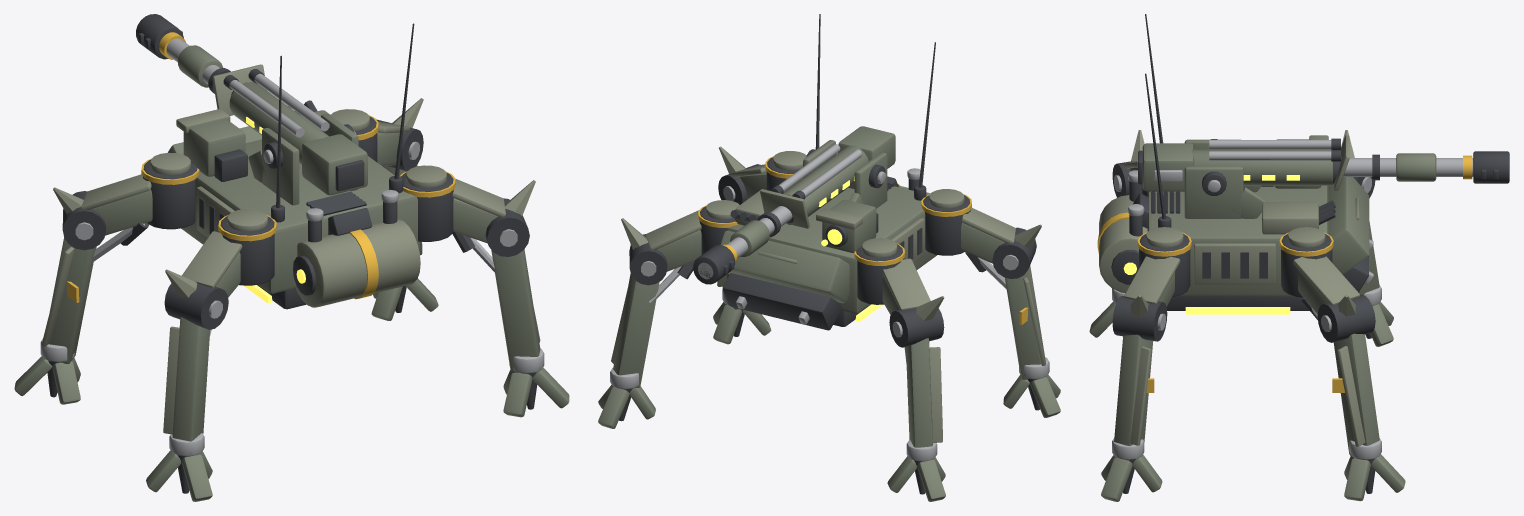
The model's file is howitzer_walker.glb.
3 views of the same model, side by side, from view 1: azimuth 30°, elevation 25°; view 2: azimuth 150°, elevation 25°; view 3: azimuth 270°, elevation 25° (orthographic). The views are drawn at different scales.
Visible parts, largest first — view 1: Legs, Hull, GunBarrel; view 2: Legs, Hull, GunBarrel; view 3: Legs, Hull, GunBarrel.
Part boxes in pixels (bbox=[...]): Legs: bbox=[14, 98, 569, 501]; Hull: bbox=[168, 23, 420, 309]; GunBarrel: bbox=[136, 14, 367, 195]; Legs: bbox=[598, 146, 1060, 501]; Hull: bbox=[720, 14, 936, 330]; GunBarrel: bbox=[693, 126, 895, 284]; Legs: bbox=[1089, 130, 1405, 501]; Hull: bbox=[1097, 14, 1373, 314]; GunBarrel: bbox=[1138, 135, 1509, 191].
Size of the model in its own units: 4.59 by 4.3 by 4.41.
